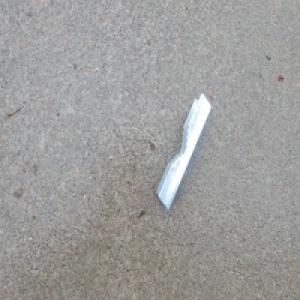ClampPart: (156, 91, 212, 212)
